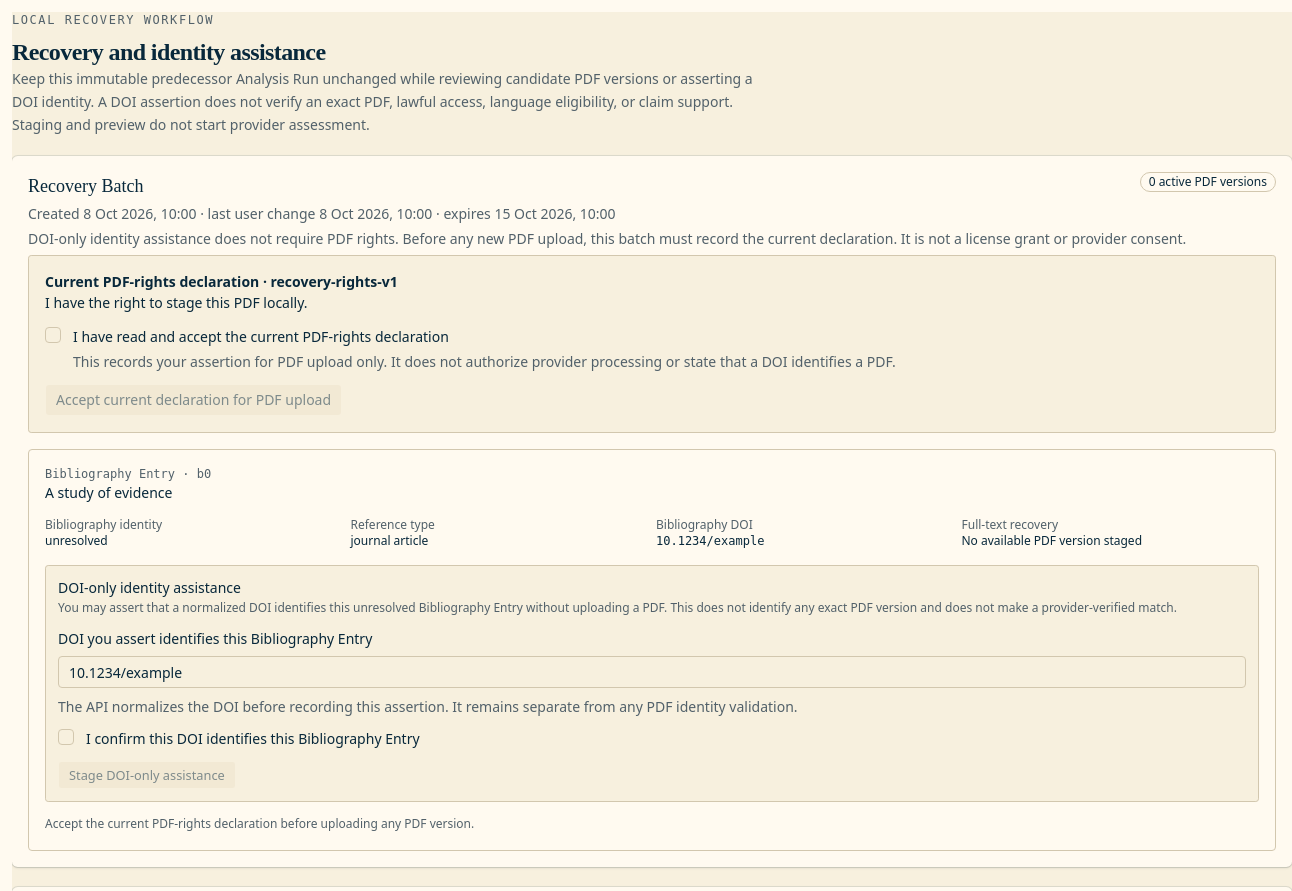
Test: Recovery Upload workspace › stages a DOI-only researcher identity assertion without PDF rights or provider consent
Type "10.5678/first-confirmed-value" into the field labelled "DOI you assert identifies this Bibliography Entry" at (652,672), box x1=58 y1=656 x2=1246 y2=688
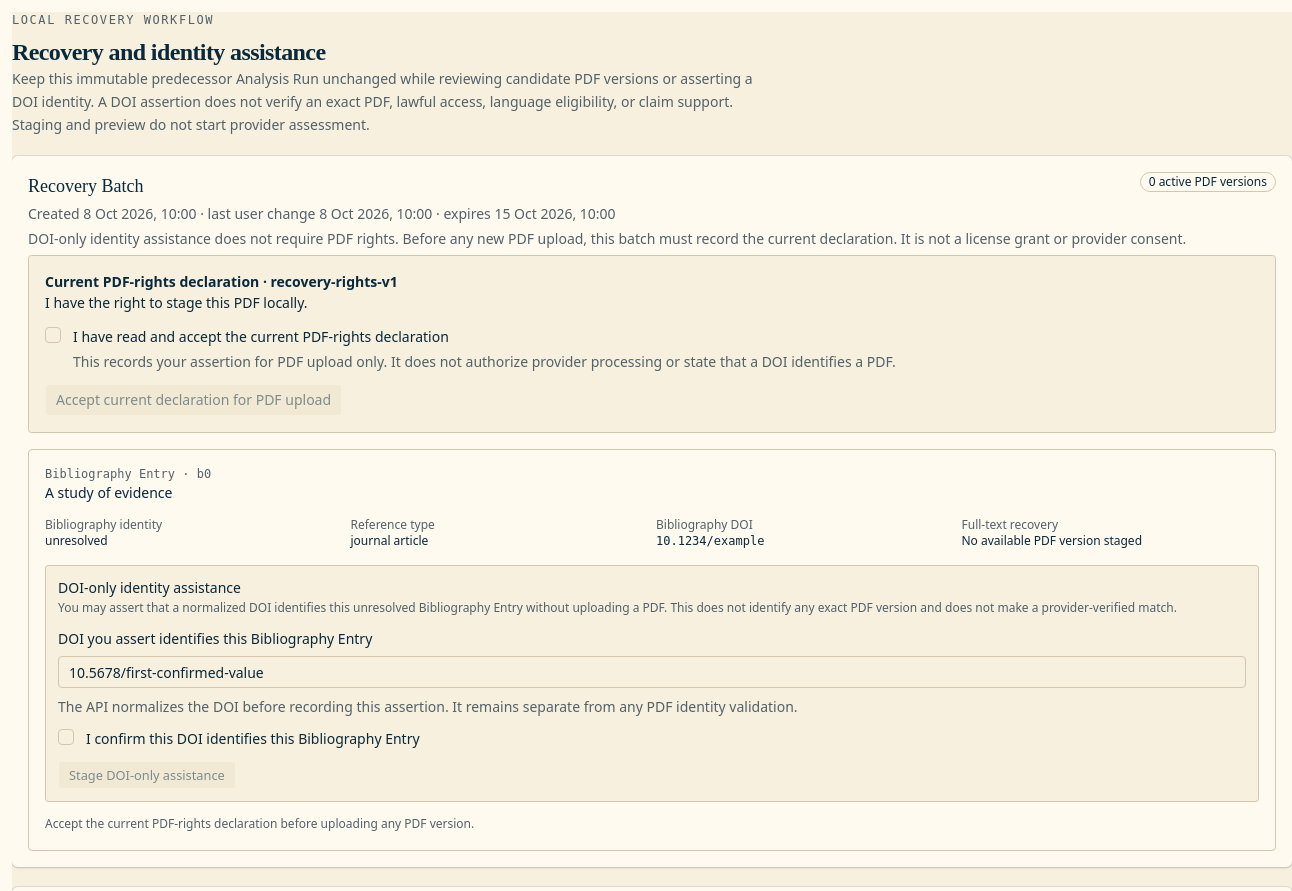
Click the checkbox named "I confirm this DOI identifies this Bibliography Entry" below "Bibliography Entry ·" at (66,737), box x1=58 y1=729 x2=74 y2=745
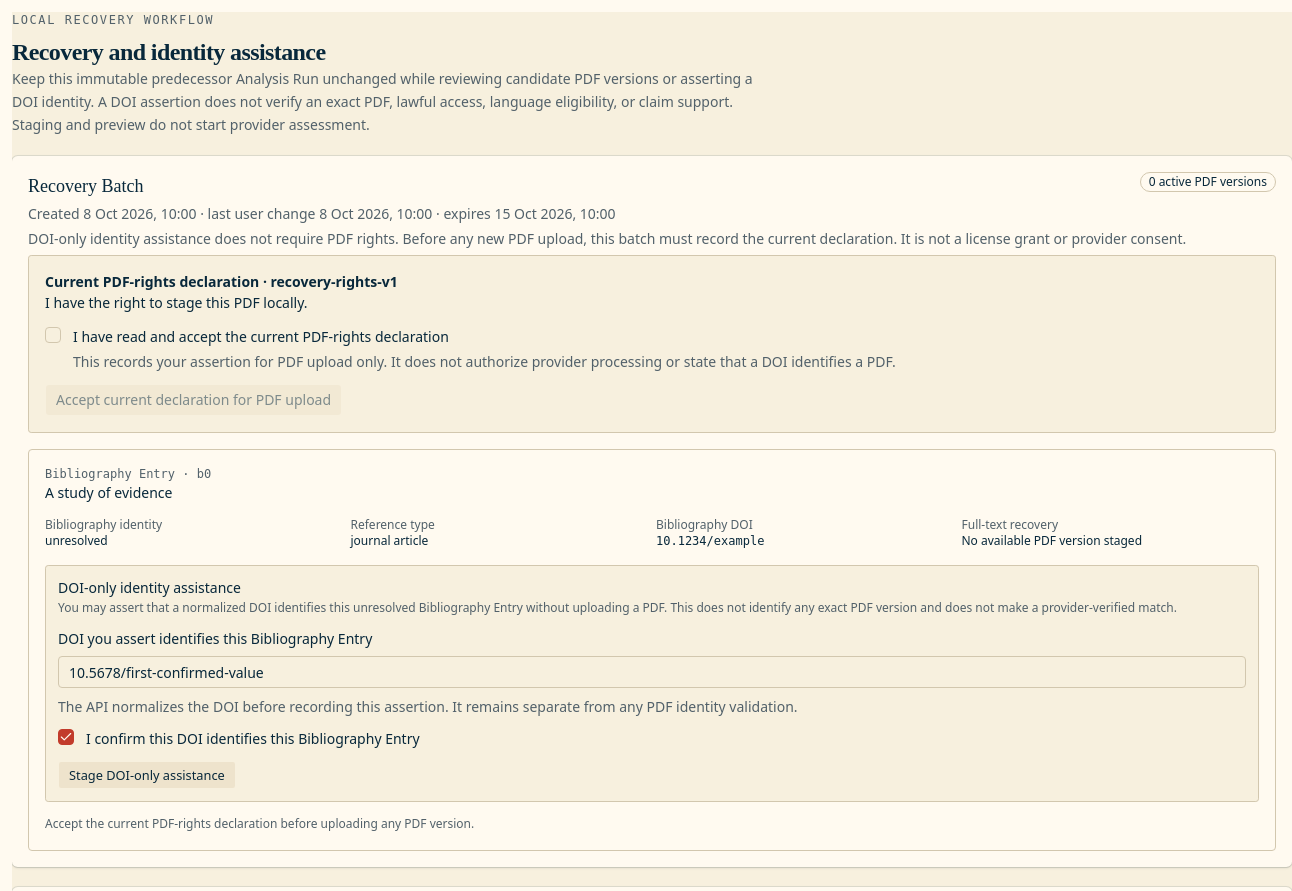
Result: the checkbox named "I confirm this DOI identifies this Bibliography Entry" below "Bibliography Entry ·" is checked at x1=58 y1=729 x2=74 y2=745
Replace the text in the field labelled "DOI you assert identifies this Bibliography Entry" with "10.5678/researcher-asserted" at (652,672), box x1=58 y1=656 x2=1246 y2=688
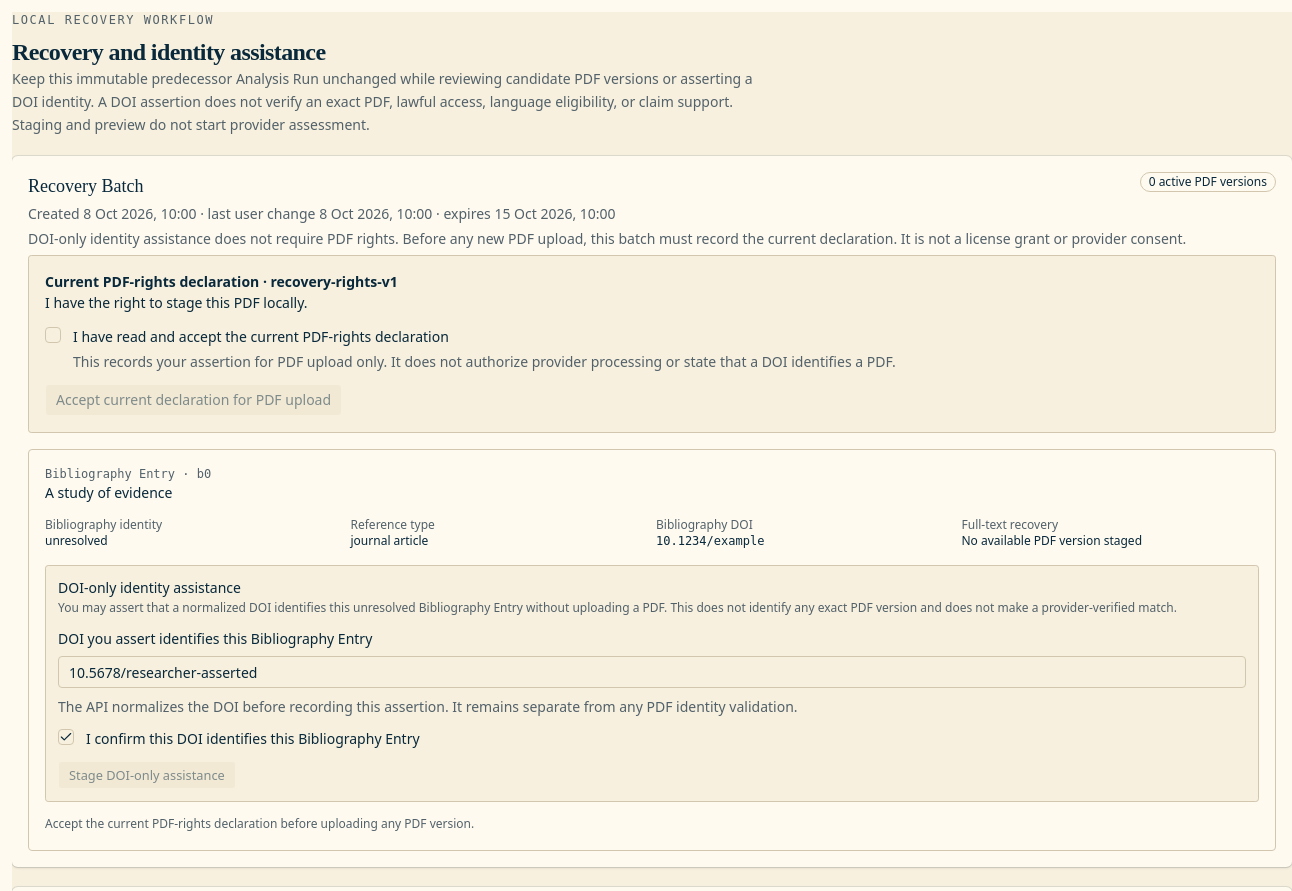
Result: the button "Stage DOI-only assistance" is disabled at x1=58 y1=761 x2=236 y2=789
Click the checkbox named "I confirm this DOI identifies this Bibliography Entry" below "Bibliography Entry ·" at (66,737), box x1=58 y1=729 x2=74 y2=745
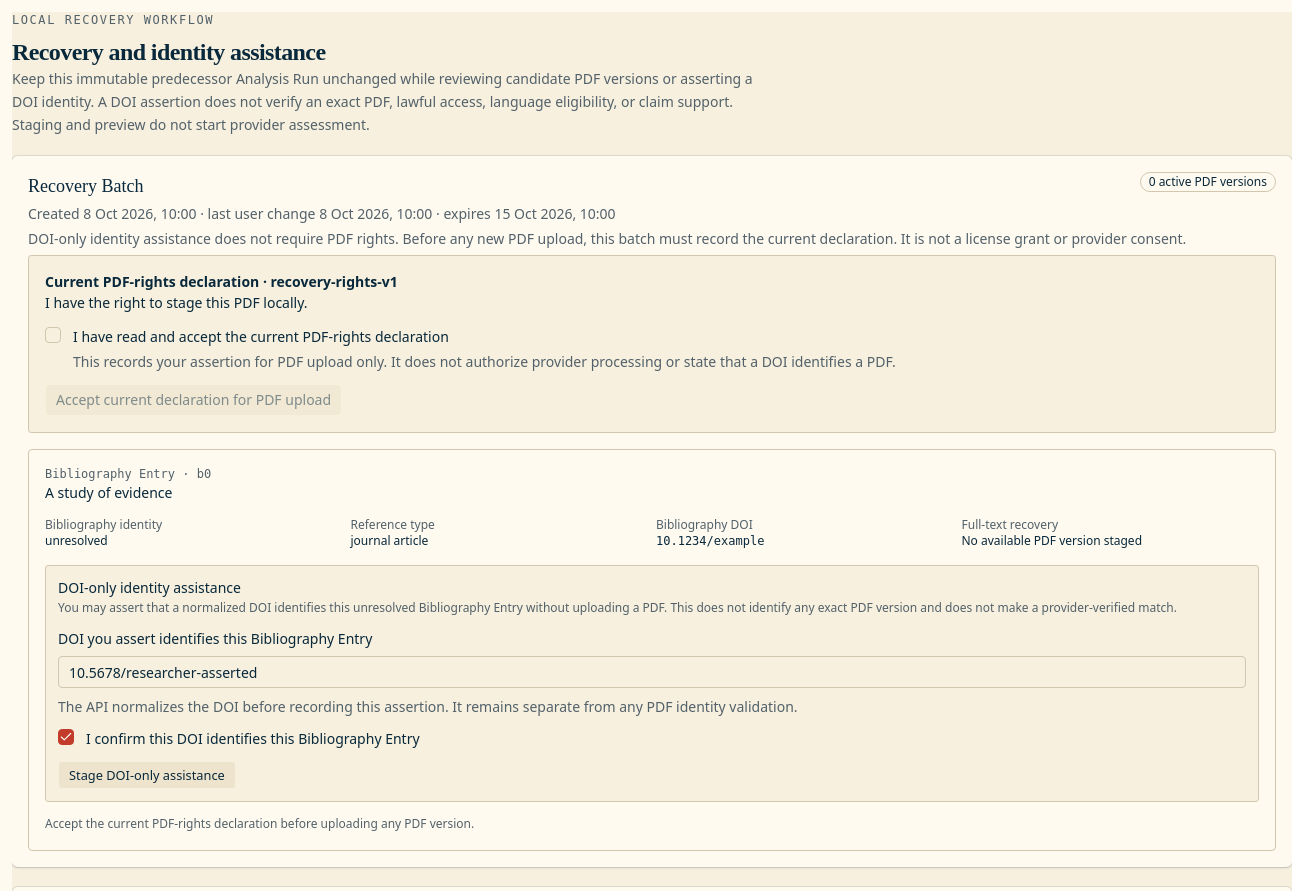
Click the button "Stage DOI-only assistance" at (147,775), box x1=58 y1=761 x2=236 y2=789
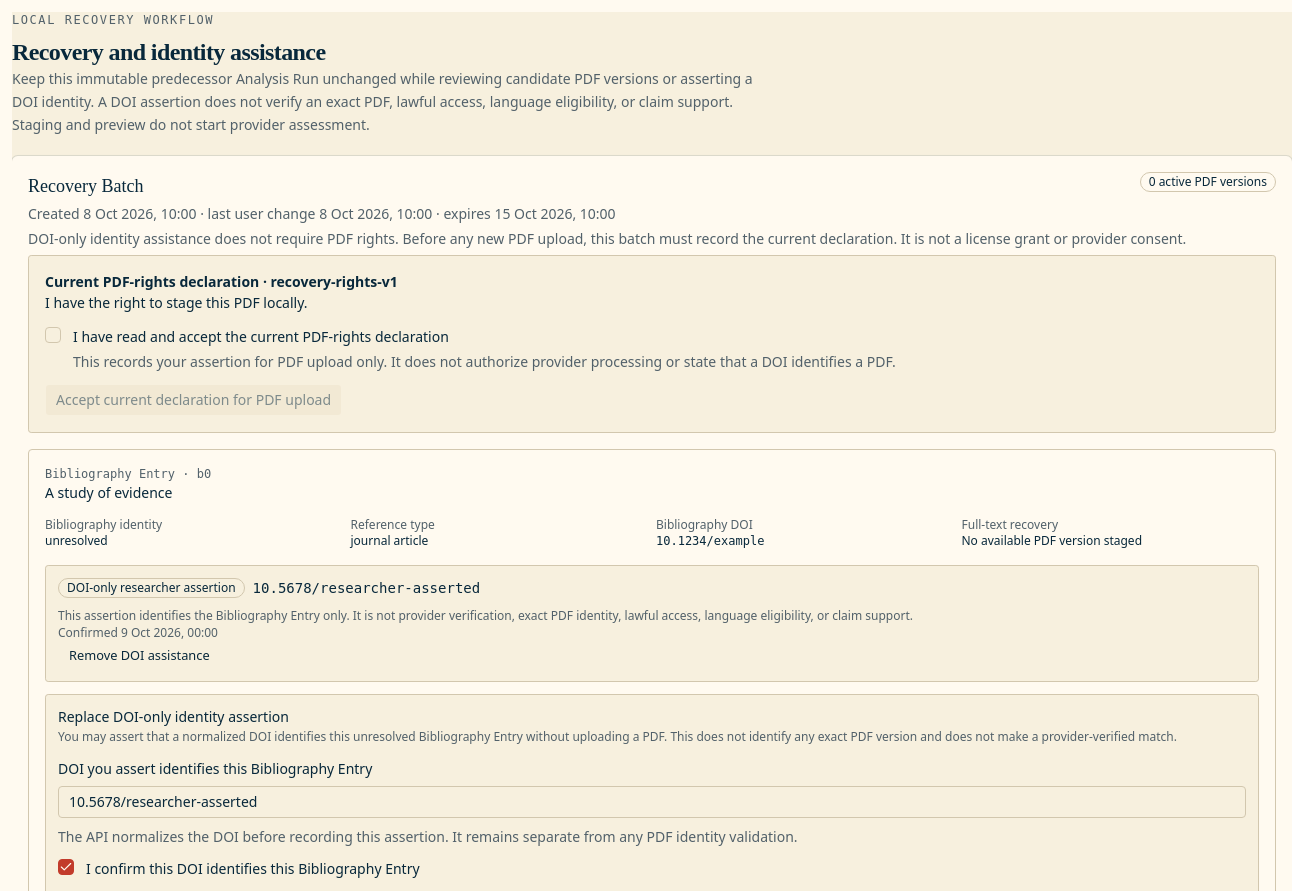
Result: the text "10.5678/researcher-asserted" is shown at x1=253 y1=578 x2=480 y2=598
Result: the text "not provider verification, exact PDF identity" is shown at x1=58 y1=606 x2=913 y2=624
